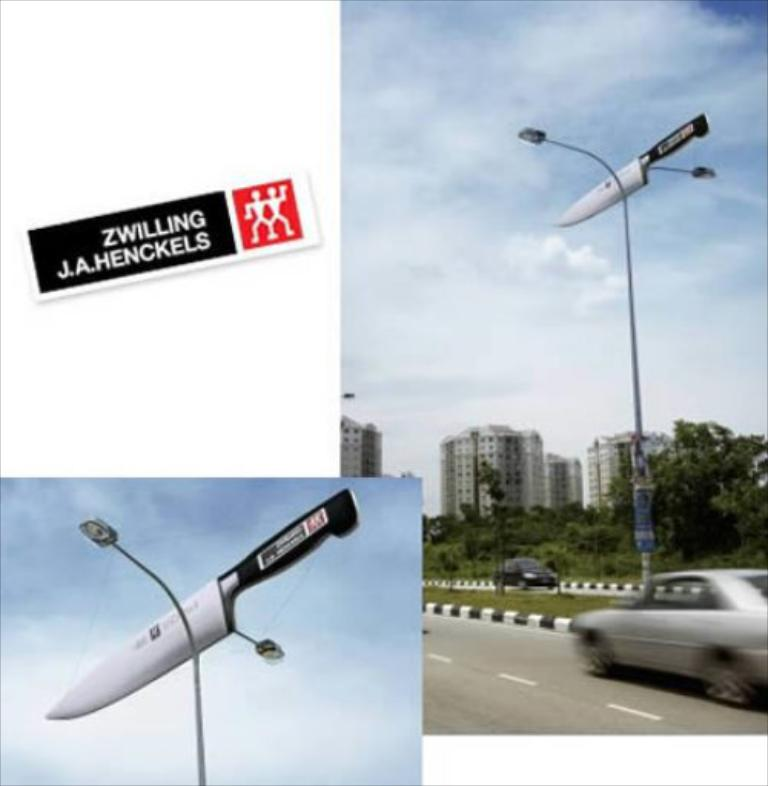mobil: (570, 573, 768, 734), (490, 548, 564, 594)
